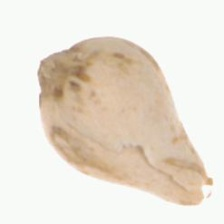L1: (34, 44, 80, 99), (183, 158, 216, 209)
L2: (37, 36, 215, 207)
